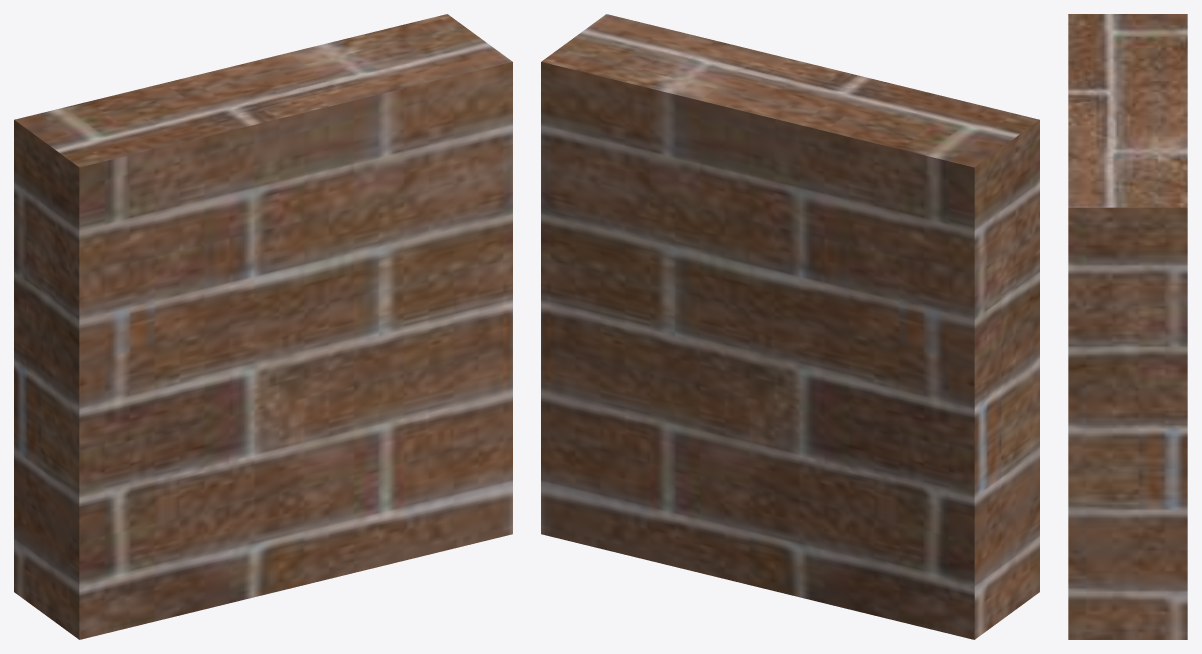
Rendered from Joglo_part_323.fbx.
The picture shows the model from 3 angles, left to right: view 1: azimuth 30°, elevation 25°; view 2: azimuth 150°, elevation 25°; view 3: azimuth 270°, elevation 25°; orthographic projection. The views are drawn at different scales.
Parts seen in each view (by area): view 1: Mesh383_Brick___Brown_0.001; view 2: Mesh383_Brick___Brown_0.001; view 3: Mesh383_Brick___Brown_0.001.
Boxes of the visible parts, box(x1,y1,x2,y2) form: Mesh383_Brick___Brown_0.001: box(14, 14, 512, 639); Mesh383_Brick___Brown_0.001: box(541, 14, 1039, 639); Mesh383_Brick___Brown_0.001: box(1068, 14, 1187, 639).
Size of the model in its own units: 15.05 by 15.68 by 3.93.
